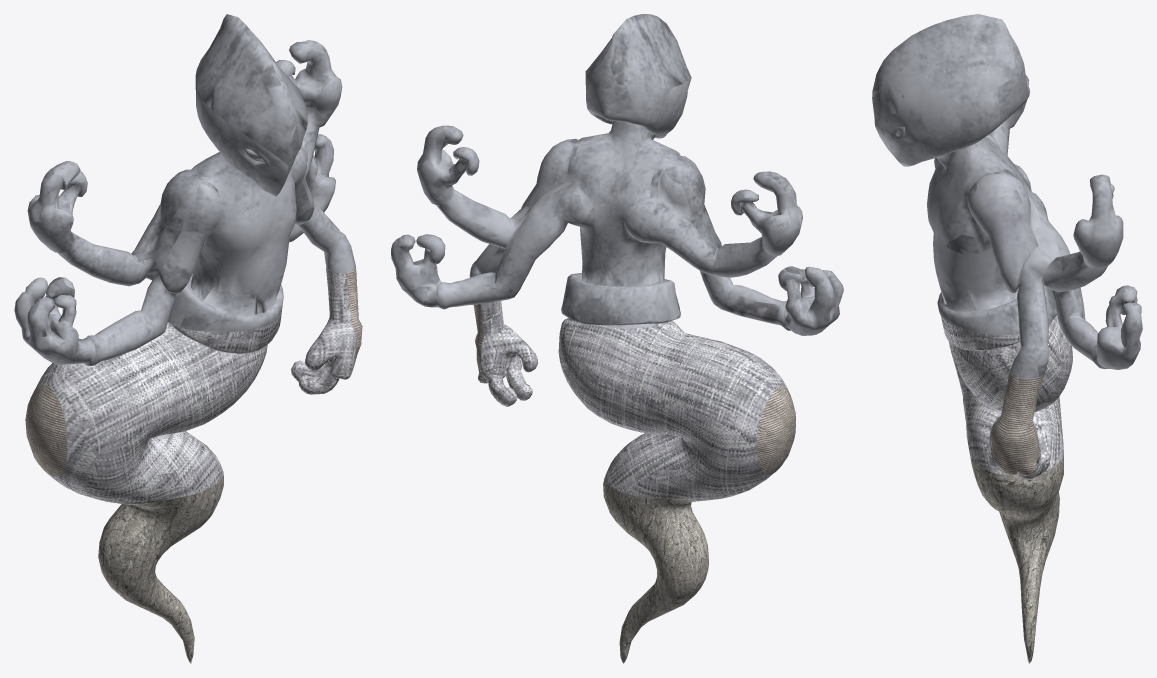
File: 19-genie-multi--fantasy_creature_3d_model.glb
The picture shows the model from 3 angles, left to right: view 1: azimuth 30°, elevation 25°; view 2: azimuth 150°, elevation 25°; view 3: azimuth 270°, elevation 25°; orthographic projection. The views are drawn at different scales.
Parts seen in each view (by area): view 1: head_mesh, body_mesh, feet_mesh, arms_mesh; view 2: head_mesh, body_mesh, feet_mesh, arms_mesh; view 3: head_mesh, body_mesh, feet_mesh, arms_mesh.
Boxes of the visible parts, x1,y1,x2,y2 form: head_mesh: [14, 14, 355, 365]; body_mesh: [30, 265, 355, 503]; feet_mesh: [98, 475, 223, 663]; arms_mesh: [25, 266, 362, 476]; head_mesh: [391, 14, 843, 335]; body_mesh: [480, 301, 789, 500]; feet_mesh: [603, 478, 708, 663]; arms_mesh: [473, 304, 795, 474]; head_mesh: [872, 14, 1142, 378]; body_mesh: [940, 314, 1072, 479]; feet_mesh: [970, 456, 1063, 663]; arms_mesh: [983, 333, 1043, 475].
Size of the model in its own units: 1.87 by 3 by 1.11.
4 materials, 4 textured.
